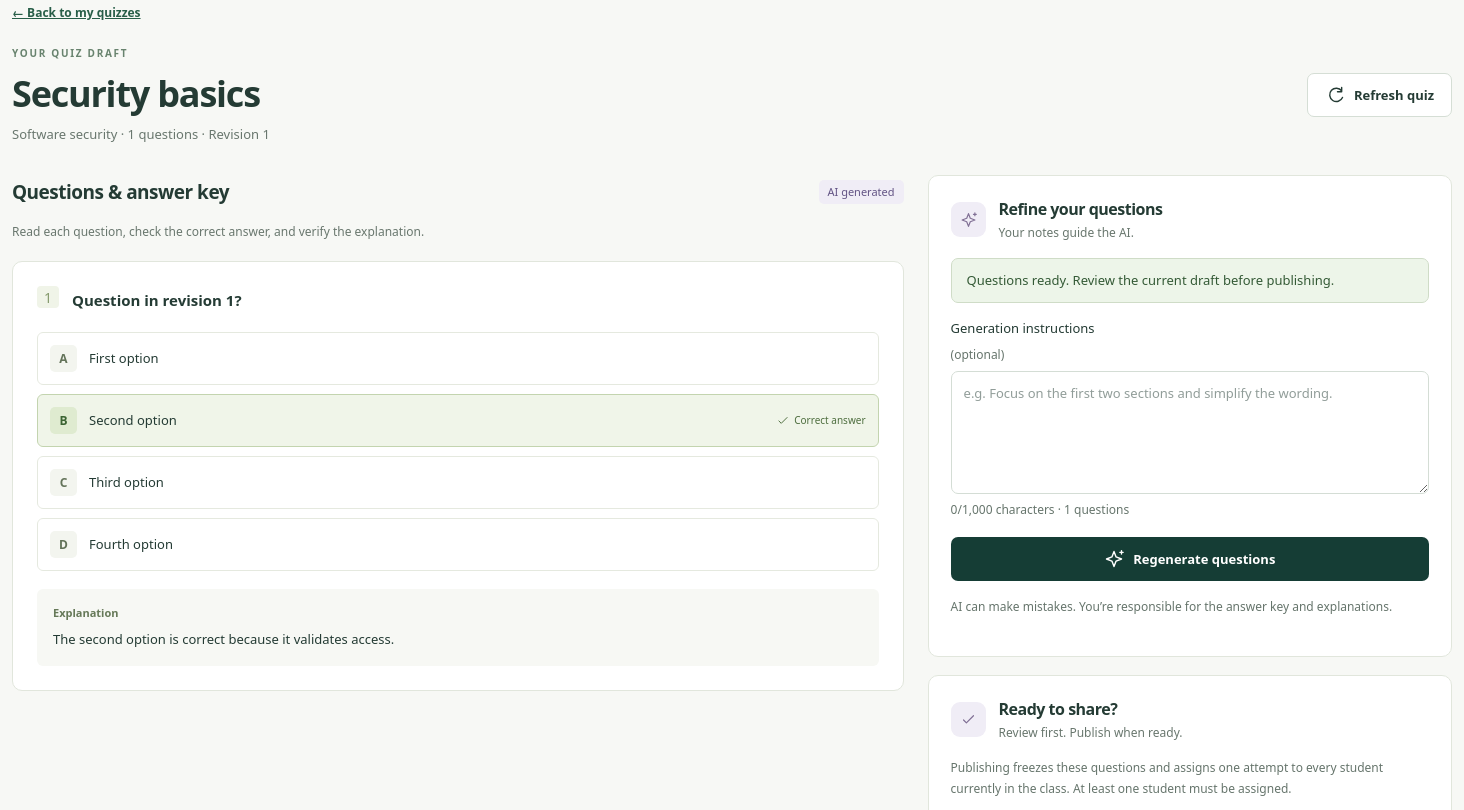
it: teacher draft review › keeps generation controls disabled during submission
Check: the heading "Question in revision 1?" is shown, box [72,286,242,312]
Click the button "Regenerate questions" at (1190, 559), box [950,537,1429,581]
(page scrolled)
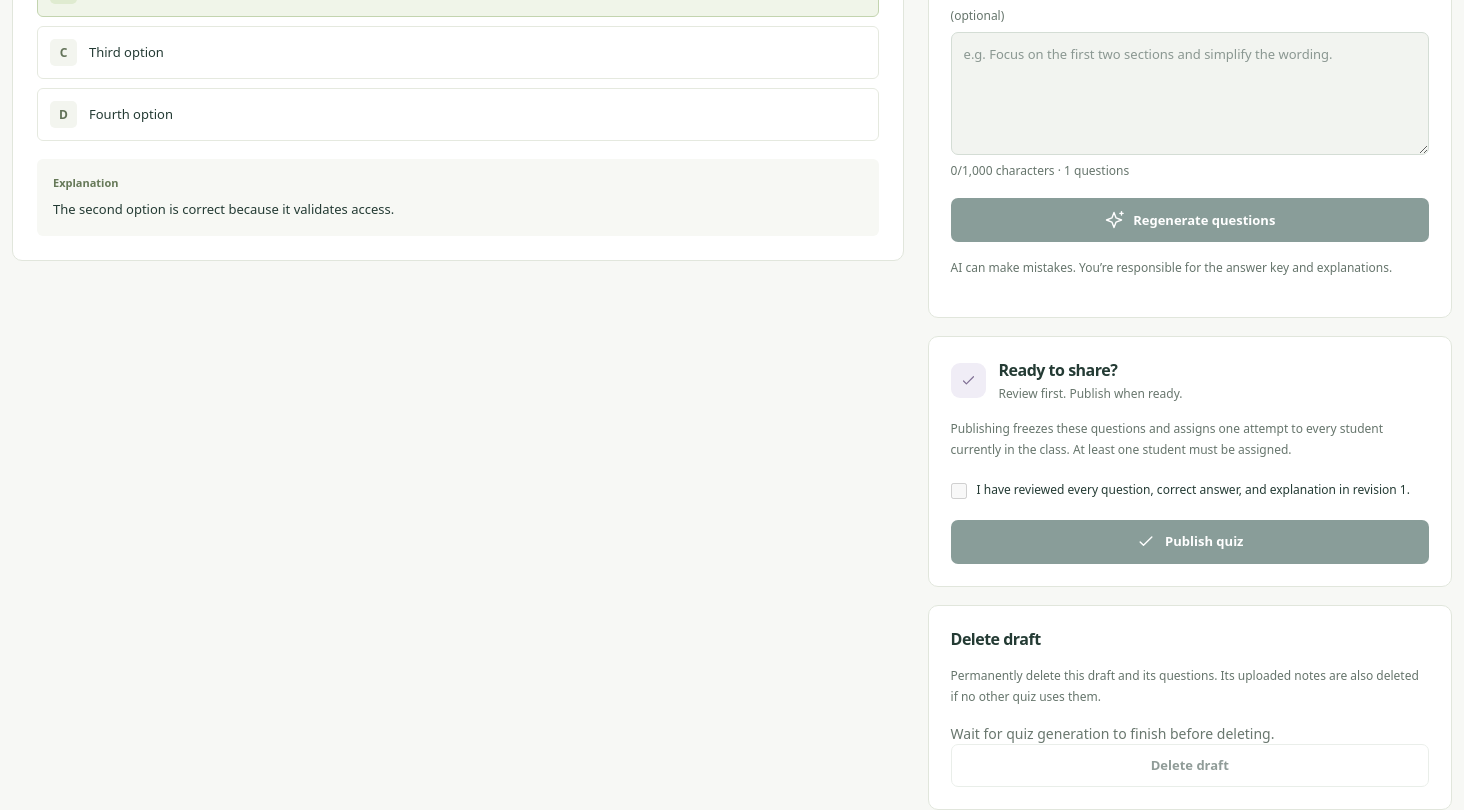
Check: the button "Regenerate questions" is disabled, box [950,198,1429,242]
Check: the checkbox is disabled, box [950,483,966,499]
